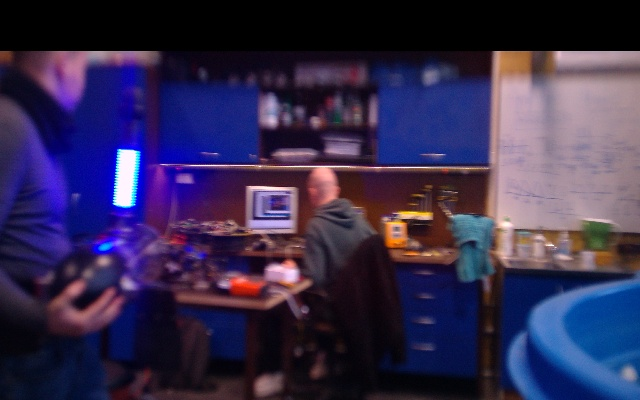blue: (112, 146, 141, 211)
